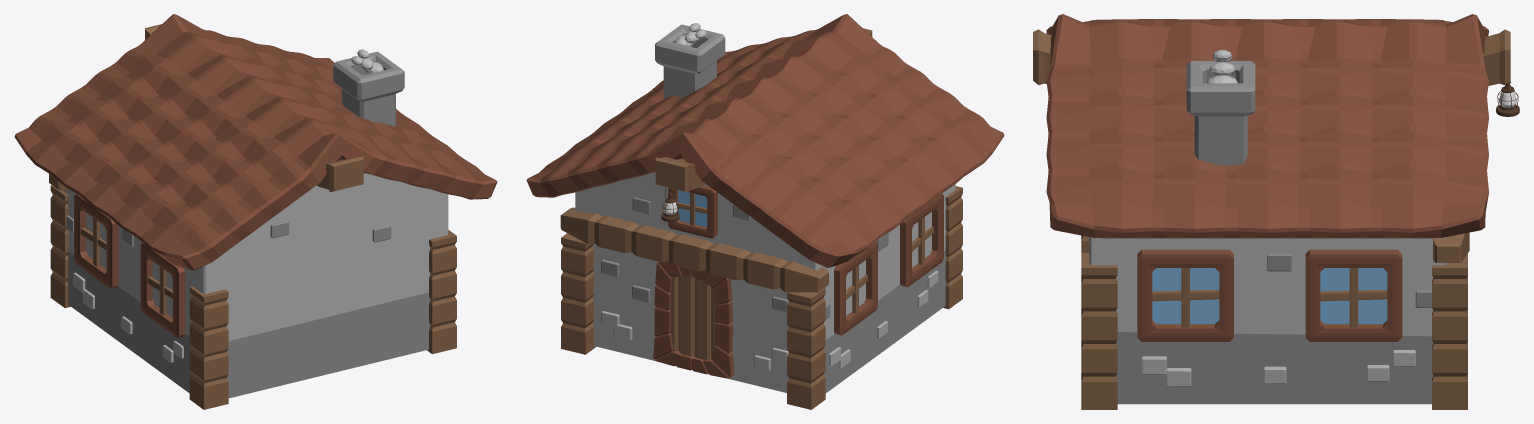
File: house-1.fbx
3 renders of one model, left to right at view 1: azimuth 30°, elevation 25°; view 2: azimuth 150°, elevation 25°; view 3: azimuth 270°, elevation 25°, orthographic. The views are drawn at different scales.
Parts seen in each view (by area): view 1: Cube.307; view 2: Cube.307; view 3: Cube.307.
Part boxes in pixels (x1,y1,x2,y2): Cube.307: [14, 14, 497, 409]; Cube.307: [526, 14, 1004, 409]; Cube.307: [1033, 14, 1519, 409].
Bounding box in the file's own units: 855 × 667 × 876.
